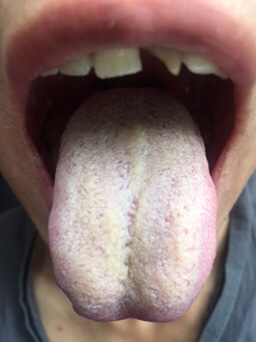huangtaishe: (49, 88, 218, 322)
